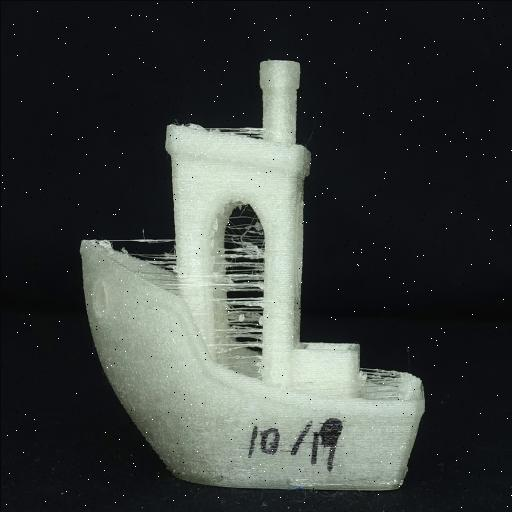stringing: (216, 216, 272, 362)
